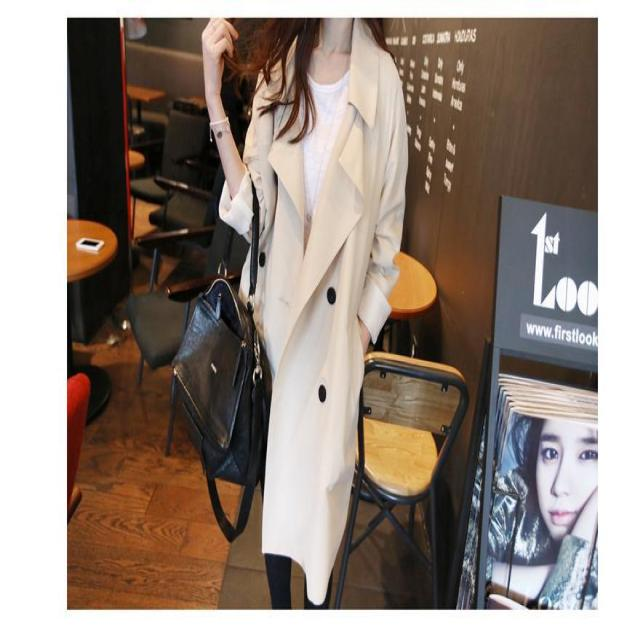long-sleeve-outwear: (246, 30, 400, 602)
